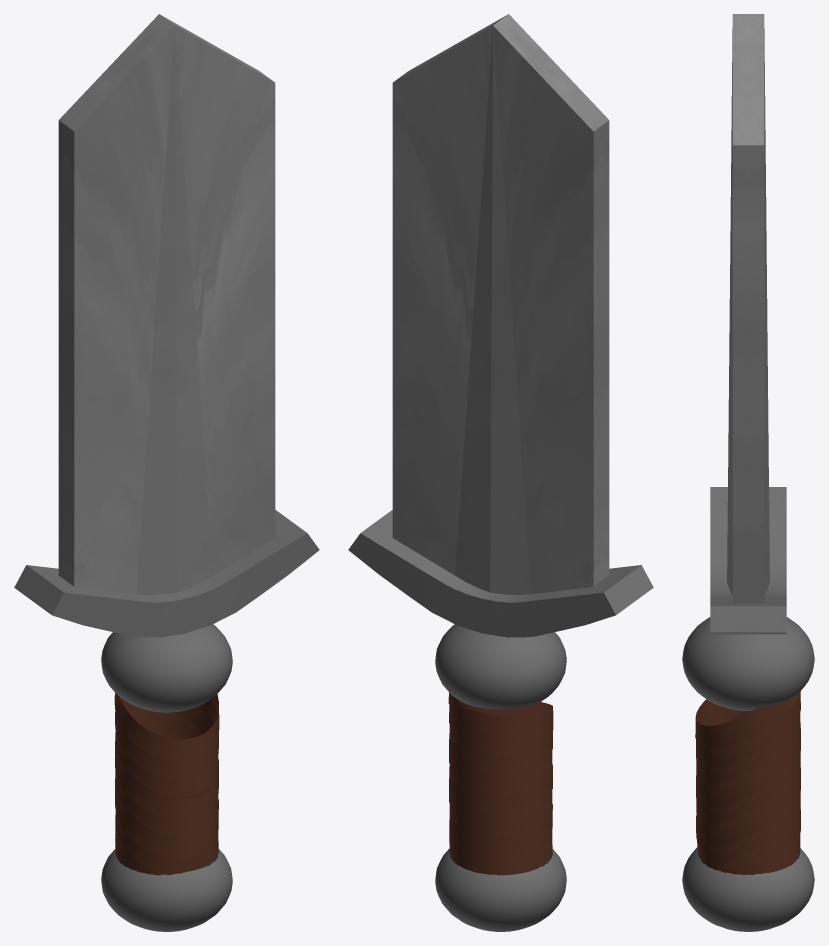
File: Zwaard 2.fbx
The picture shows the model from 3 angles, left to right: view 1: azimuth 30°, elevation 25°; view 2: azimuth 150°, elevation 25°; view 3: azimuth 270°, elevation 25°; orthographic projection.
Parts seen in each view (by area): view 1: Circle.007; view 2: Circle.007; view 3: Circle.007.
Boxes of the visible parts, <box> form: Circle.007: <box>14,14,319,931</box>; Circle.007: <box>348,14,653,931</box>; Circle.007: <box>682,14,814,931</box>.
Size of the model in its own units: 245 by 792 by 105.
